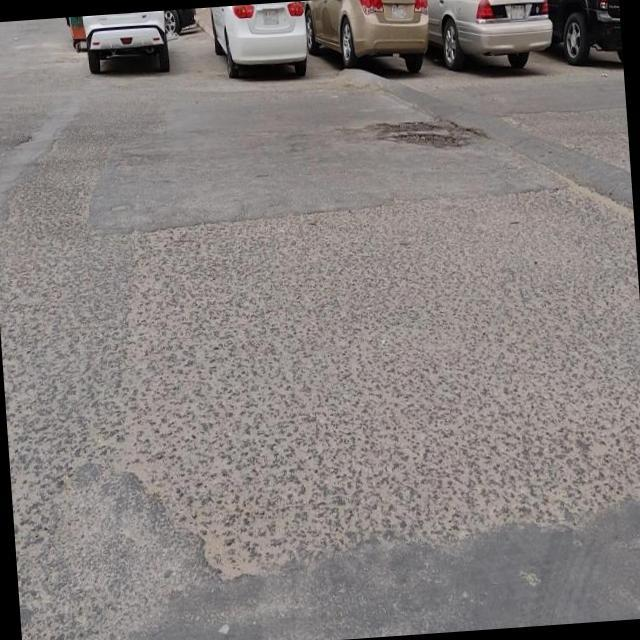Pothole: (372, 118, 470, 152)
